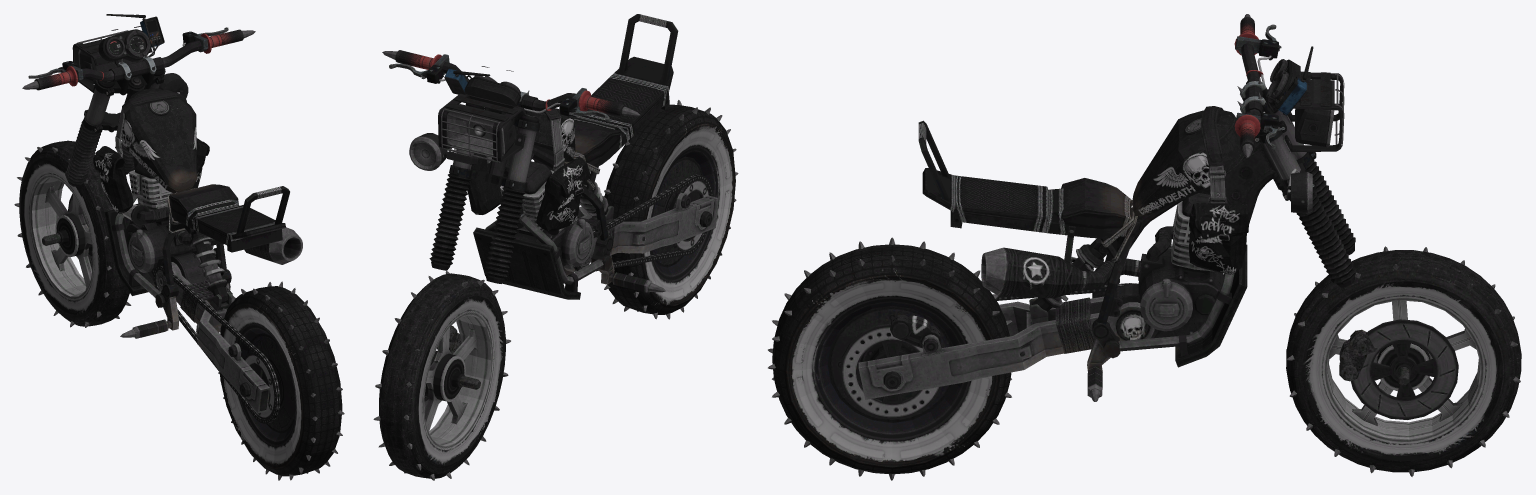
Rendered from MotocrossBike.obj.
3 views of the same model, side by side, from view 1: azimuth 30°, elevation 25°; view 2: azimuth 150°, elevation 25°; view 3: azimuth 270°, elevation 25° (orthographic). The views are drawn at different scales.
Visible parts, largest first — view 1: chassis, wheel2, wheel1, Helm, suspension, buffer2, radar; view 2: chassis, wheel1, Helm, wheel2, suspension, radar, buffer1, buffer2; view 3: chassis, wheel2, wheel1, Helm, suspension, buffer1, buffer2, radar.
Part boxes in pixels (x1=…): chassis: x1=93, y1=88, x2=302, y2=338; wheel2: x1=218, y1=281, x2=344, y2=480; wheel1: x1=14, y1=140, x2=131, y2=327; Helm: x1=22, y1=27, x2=255, y2=186; suspension: x1=153, y1=257, x2=280, y2=423; buffer2: x1=189, y1=229, x2=227, y2=303; radar: x1=106, y1=14, x2=164, y2=62; chassis: x1=467, y1=14, x2=678, y2=299; wheel1: x1=373, y1=271, x2=510, y2=480; Helm: x1=382, y1=50, x2=639, y2=283; wheel2: x1=604, y1=100, x2=738, y2=319; suspension: x1=563, y1=174, x2=718, y2=272; radar: x1=444, y1=66, x2=490, y2=94; buffer1: x1=449, y1=325, x2=480, y2=389; buffer2: x1=579, y1=182, x2=608, y2=216; chassis: x1=918, y1=106, x2=1281, y2=401; wheel2: x1=768, y1=237, x2=1011, y2=480; wheel1: x1=1286, y1=246, x2=1521, y2=476; Helm: x1=1234, y1=14, x2=1355, y2=287; suspension: x1=858, y1=283, x2=1154, y2=399; buffer1: x1=1339, y1=329, x2=1409, y2=385; buffer2: x1=1032, y1=238, x2=1108, y2=311; radar: x1=1265, y1=46, x2=1313, y2=115.
Bounding box in the file's own units: 24.01 × 32.98 × 53.41.
